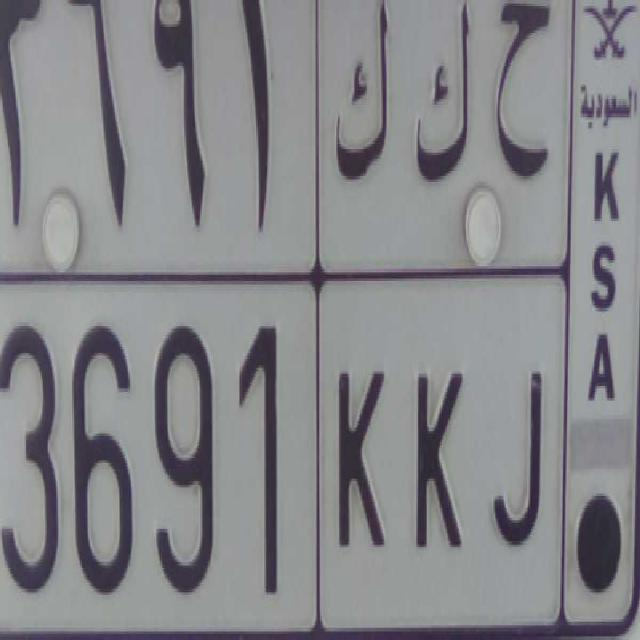license_plate: (0, 270, 562, 640)
